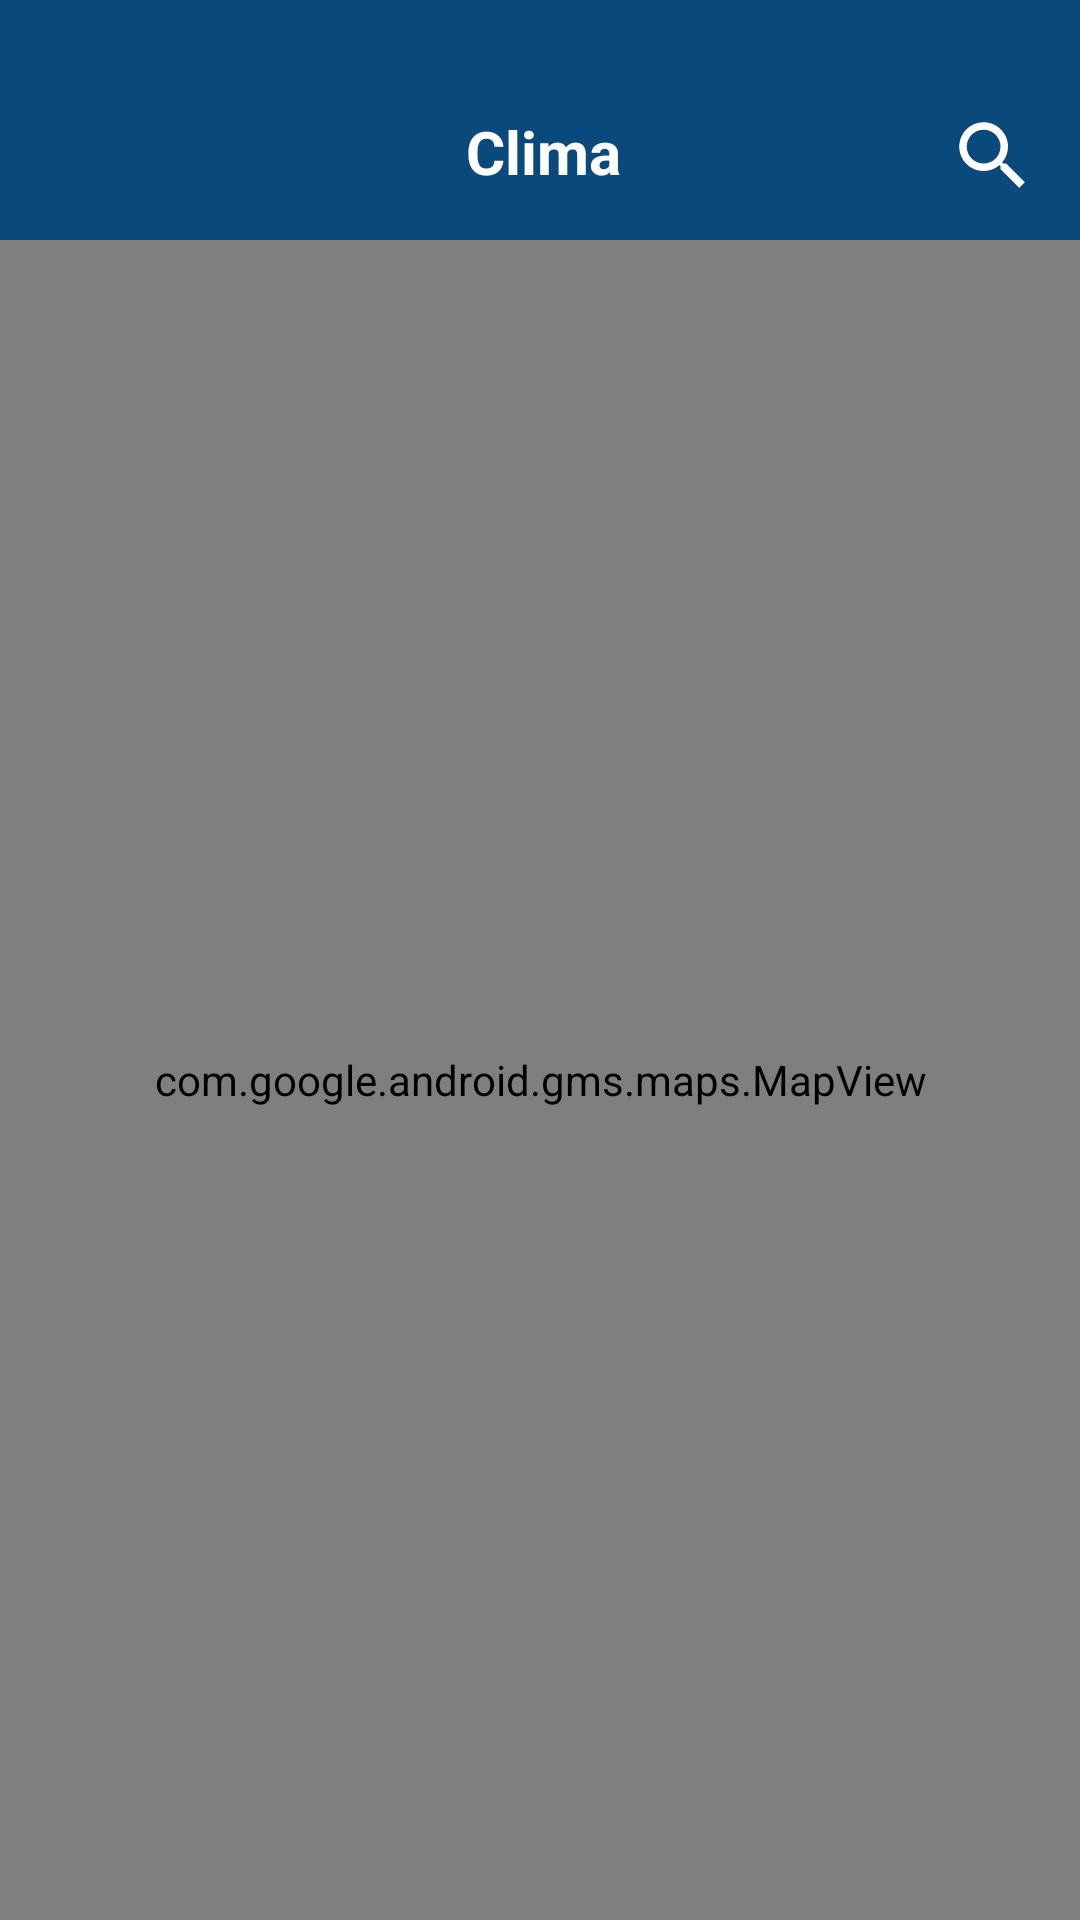

Named icons in this screenshot (1080 × 1920) and their centers, (x=x, y=y):
search: (x=992, y=155)
